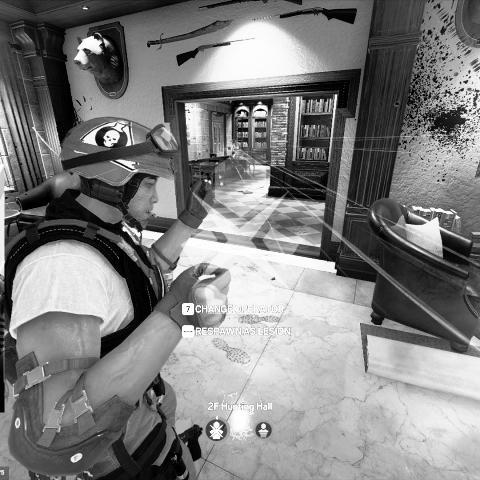Character: (0, 114, 236, 480)
Head: (58, 115, 180, 230)
